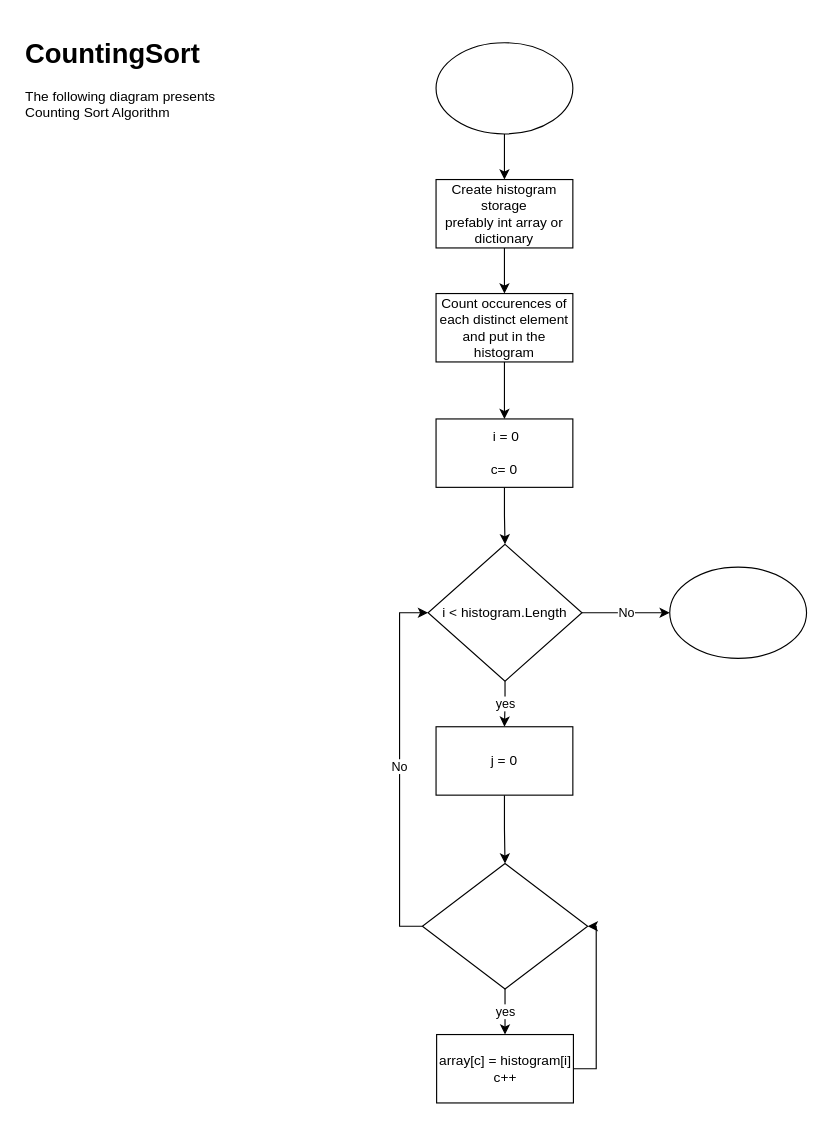
The diagram is 827 pixels wide and 1123 high, and some of its shapes have lost their labels. Each missing label, with the centre of its shape:
"Array is sorted return;" goes at point (738, 612).
"j < histogram[i]" goes at point (504, 925).
"Start int[] array" goes at point (504, 88).
